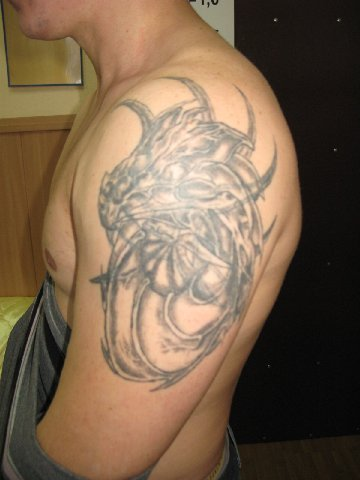tatu6_drakon: (73, 65, 299, 398)
